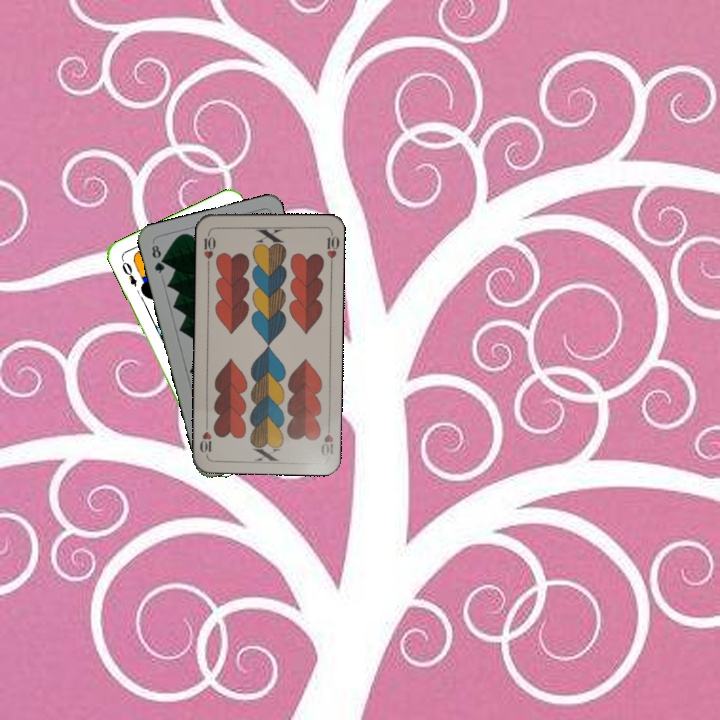EO: (117, 255, 140, 289)
G8: (147, 239, 167, 276)
H10: (199, 228, 218, 268), (317, 418, 336, 458)
